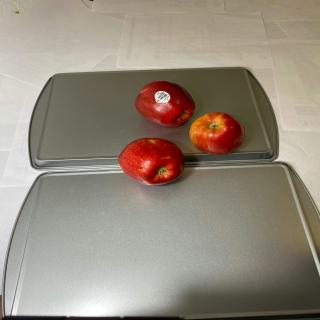Apple: (118, 137, 185, 186), (134, 80, 196, 127), (189, 112, 245, 155)
